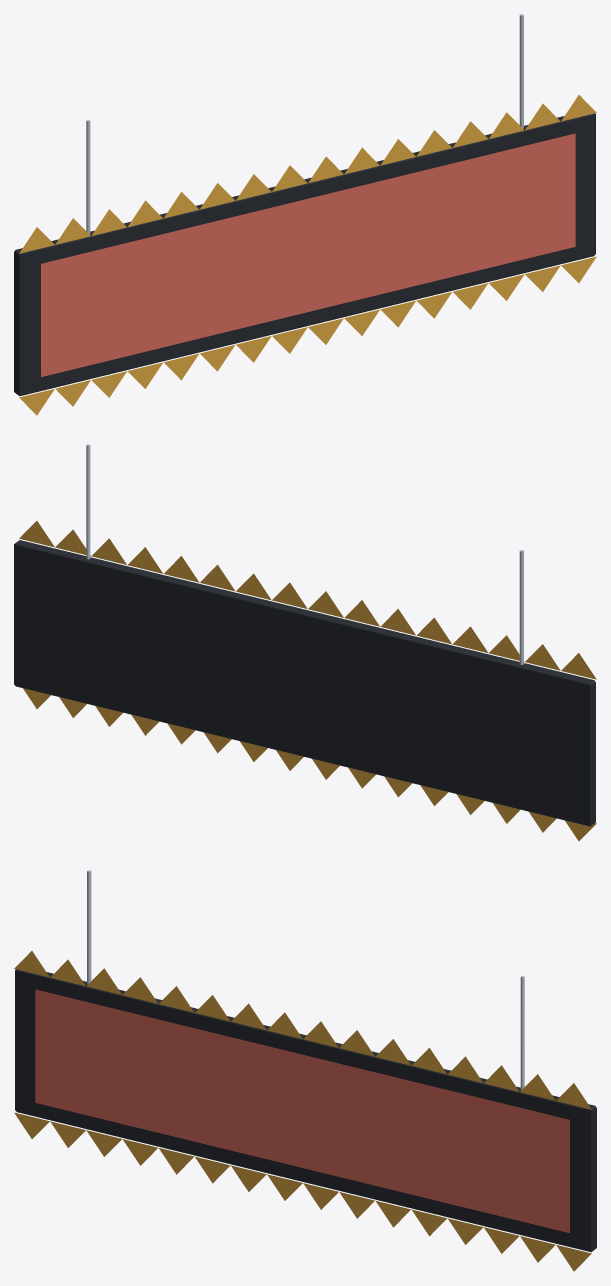
Rendered from CM_Event_SaleBanner.fbx.
The picture shows the model from 3 angles, top to bottom: view 1: azimuth 30°, elevation 25°; view 2: azimuth 150°, elevation 25°; view 3: azimuth 330°, elevation 25°; orthographic projection.
Parts seen in each view (by area): view 1: Face, Body; view 2: Body; view 3: Face, Body.
Boxes of the visible parts, x1=… form: Face: x1=41, y1=133, x2=575, y2=377; Body: x1=14, y1=14, x2=596, y2=415; Body: x1=14, y1=444, x2=596, y2=841; Face: x1=35, y1=989, x2=569, y2=1233; Body: x1=14, y1=870, x2=596, y2=1271.
Bounding box in the file's own units: 16 × 0.3 × 7.4.
Materials: 1 (1 with a texture image).
